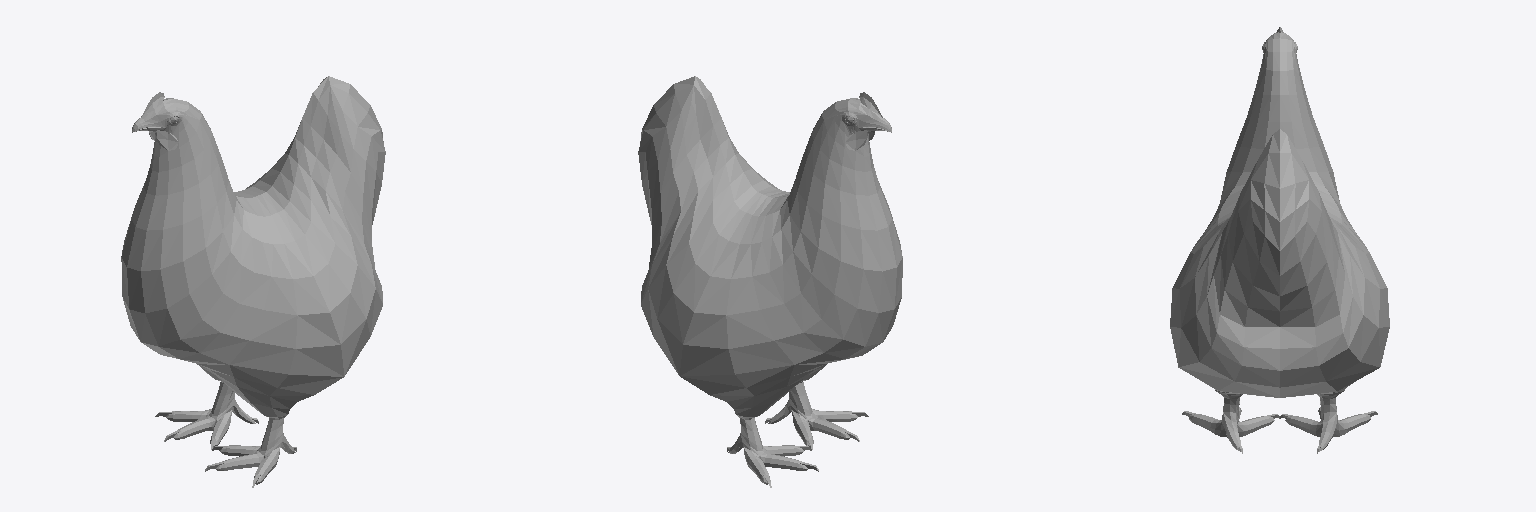
File: NQYSRFAH2DLRRCXYATRL10XFG.obj
3 views of the same model, side by side, from view 1: azimuth 30°, elevation 25°; view 2: azimuth 150°, elevation 25°; view 3: azimuth 270°, elevation 25° (orthographic).
Visible parts, largest first — view 1: Object_chicken.jpg; view 2: Object_chicken.jpg; view 3: Object_chicken.jpg.
Boxes of the visible parts, <box> form: Object_chicken.jpg: <box>121,76,385,487</box>; Object_chicken.jpg: <box>638,76,902,487</box>; Object_chicken.jpg: <box>1170,27,1389,453</box>.
Bounding box in the file's own units: 1.8 × 2.5 × 1.33.